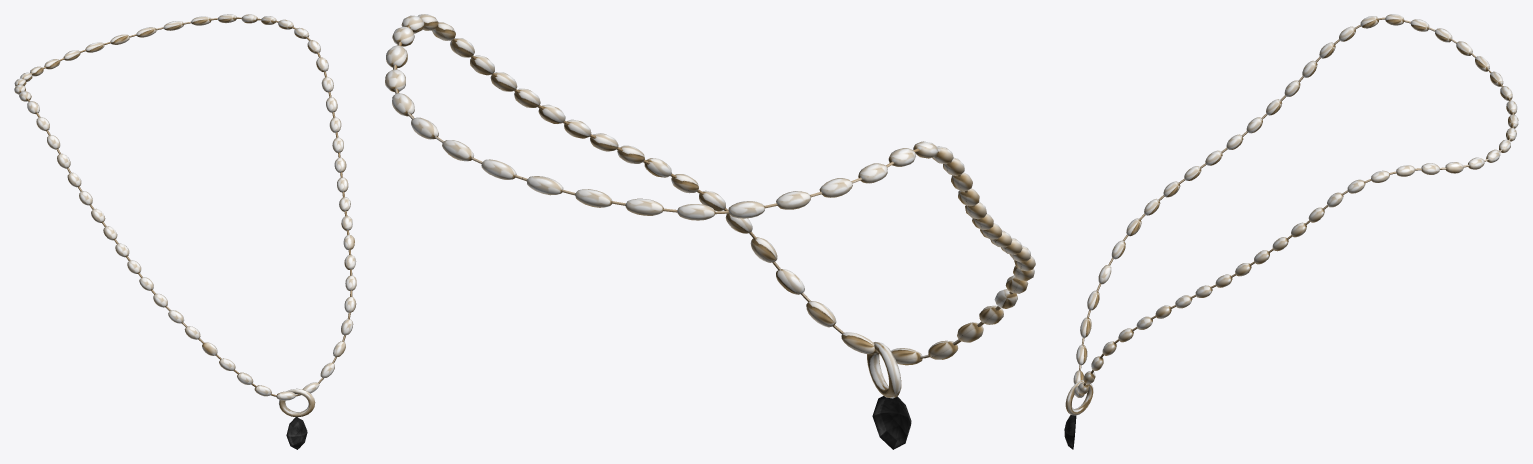
The model's file is necklace_03.glb.
3 renders of one model, left to right at view 1: azimuth 30°, elevation 25°; view 2: azimuth 150°, elevation 25°; view 3: azimuth 270°, elevation 25°, orthographic. The views are drawn at different scales.
Visible parts, largest first — view 1: necklace_Ring_0; view 2: necklace_Ring_0; view 3: necklace_Ring_0.
Part boxes in pixels (x1,y1,x2,y2): necklace_Ring_0: [14, 14, 356, 449]; necklace_Ring_0: [385, 14, 1035, 449]; necklace_Ring_0: [1064, 14, 1518, 449].
Size of the model in its own units: 158 by 157 by 181.
4 materials, 4 textured.
